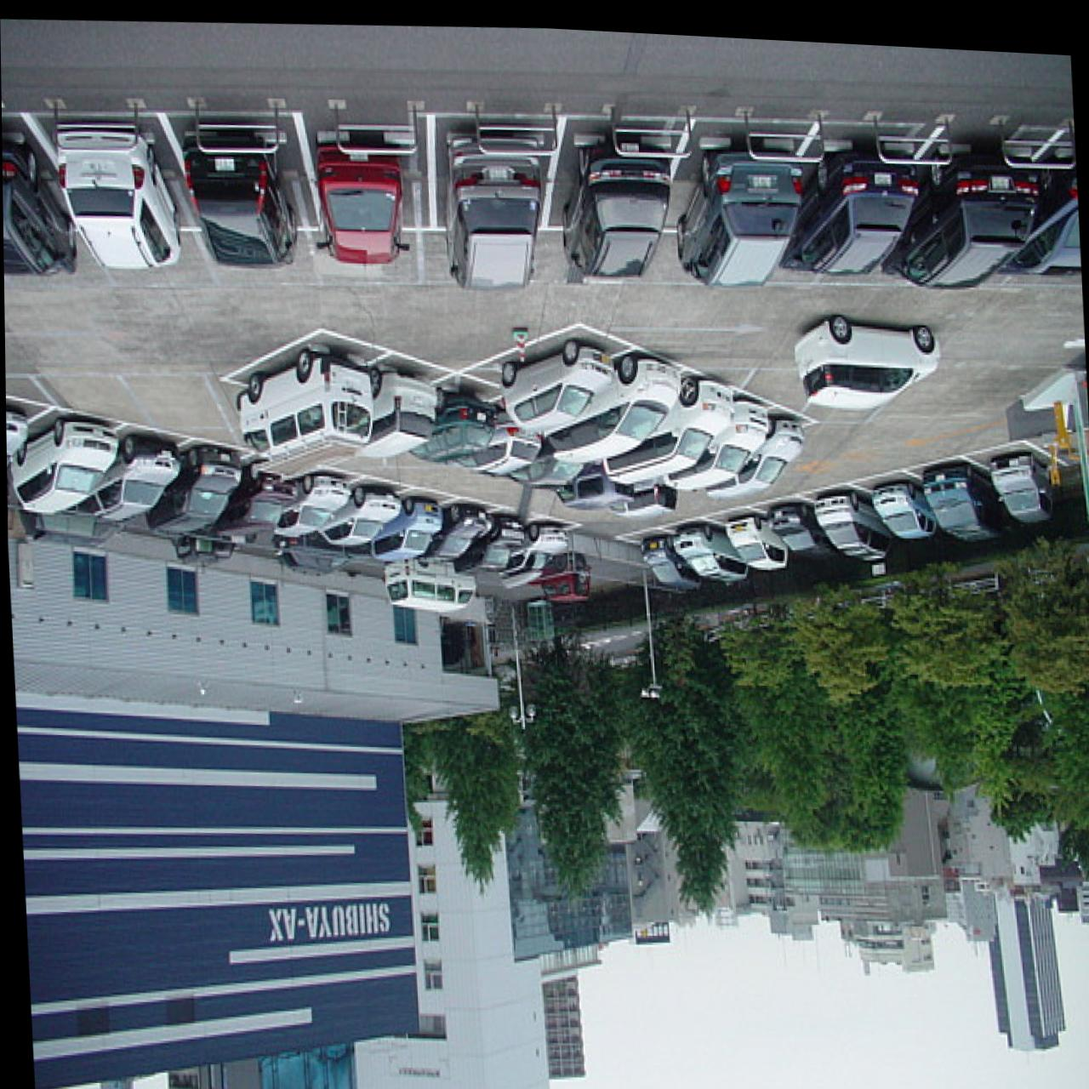cars: (880, 119, 1040, 294), (50, 101, 202, 268), (773, 127, 924, 289), (174, 108, 324, 261), (670, 116, 805, 282), (545, 114, 684, 271), (307, 112, 441, 251), (435, 120, 552, 259), (2, 117, 80, 294), (620, 356, 739, 464), (328, 358, 452, 451), (245, 317, 367, 409), (561, 344, 673, 442), (496, 315, 608, 412), (663, 380, 776, 476), (81, 419, 190, 515), (396, 374, 503, 471), (20, 398, 113, 499), (147, 437, 246, 529), (515, 449, 649, 511), (721, 405, 811, 488), (929, 449, 1006, 544), (206, 466, 296, 547), (268, 463, 355, 541), (319, 479, 409, 553), (444, 403, 540, 471), (468, 443, 580, 498), (865, 467, 940, 543), (763, 492, 837, 567), (988, 434, 1061, 510), (811, 484, 888, 556), (582, 469, 677, 526), (487, 520, 568, 586), (369, 496, 452, 560), (453, 511, 536, 575), (421, 500, 500, 560), (723, 508, 795, 573), (670, 519, 744, 581), (620, 528, 699, 582)
